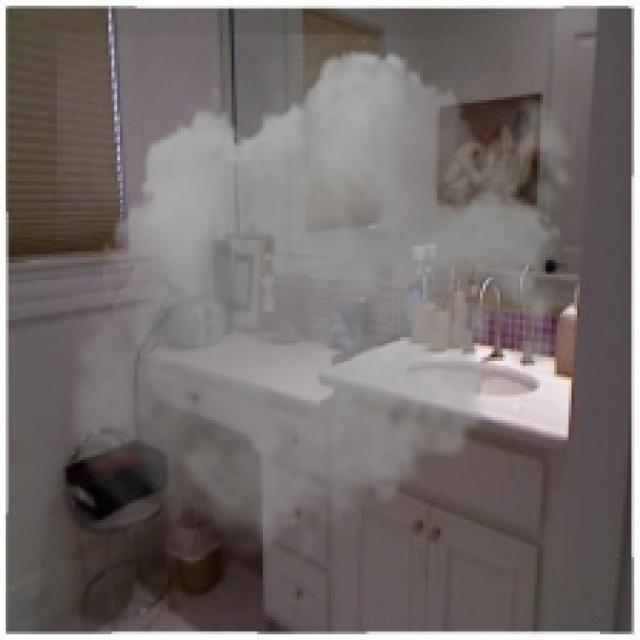Smoke: (57, 34, 592, 577)
